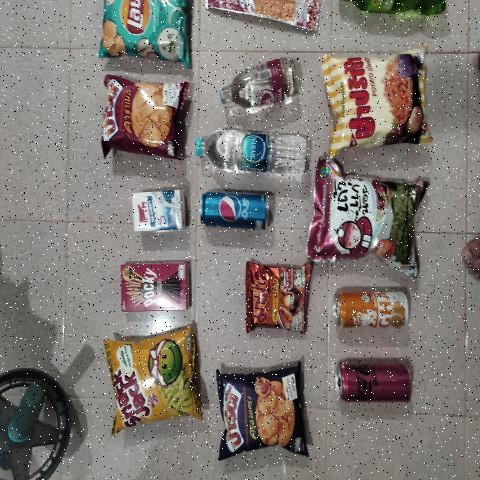coke_red: (335, 361, 414, 402)
crystal: (194, 126, 310, 182)
lay_blue: (101, 0, 191, 61)
mama: (246, 263, 307, 331)
paprika: (322, 54, 437, 156)
party_purple: (221, 373, 300, 451)
party_red: (100, 79, 176, 160)
pepsi_blue: (199, 189, 270, 229)
pokki: (322, 170, 419, 269), (117, 261, 192, 307)
singha_soda: (216, 57, 305, 110)
singha_yellow: (334, 290, 410, 330)
snack_jack: (109, 334, 199, 424)
thai_denmark: (131, 188, 186, 233)
